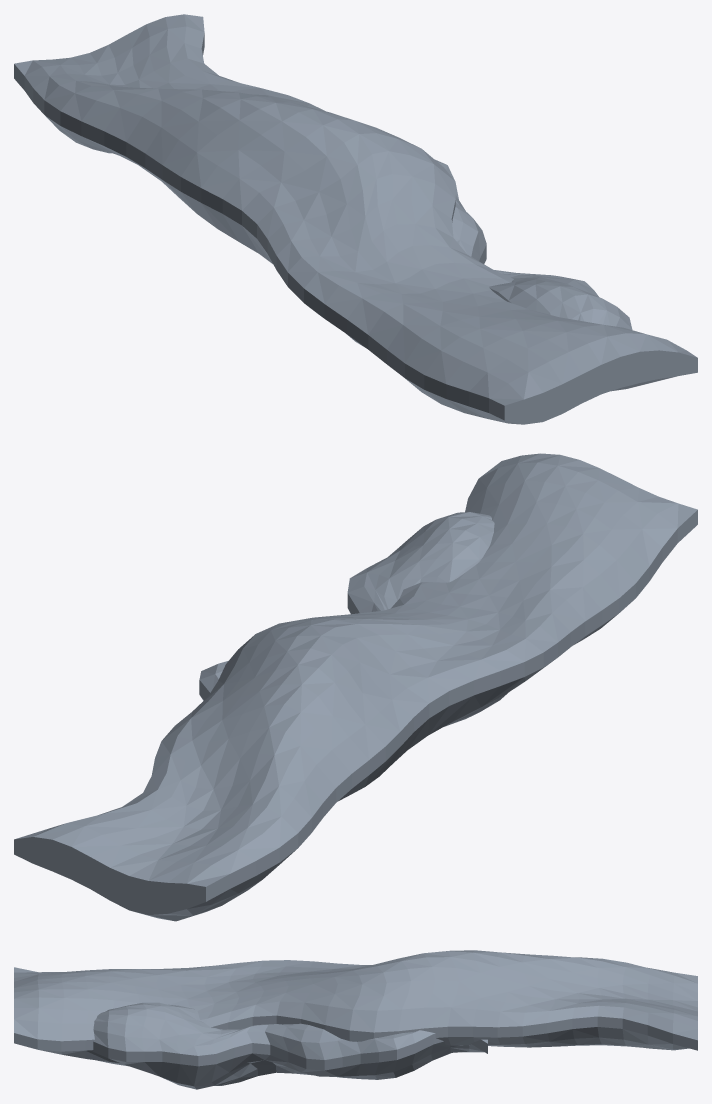
Rendered from storm_rain_scud.glb.
The picture shows the model from 3 angles, top to bottom: view 1: azimuth 30°, elevation 25°; view 2: azimuth 150°, elevation 25°; view 3: azimuth 270°, elevation 25°; orthographic projection. The views are drawn at different scales.
Parts seen in each view (by area): view 1: Hanging fragmented rain underside, Outer rain fold; view 2: Hanging fragmented rain underside, Outer rain fold; view 3: Hanging fragmented rain underside, Outer rain fold.
Boxes of the visible parts, <box> form: Hanging fragmented rain underside: <box>14,14,697,424</box>; Outer rain fold: <box>435,159,632,329</box>; Hanging fragmented rain underside: <box>14,453,697,921</box>; Outer rain fold: <box>199,512,494,700</box>; Hanging fragmented rain underside: <box>14,950,697,1066</box>; Outer rain fold: <box>92,1002,487,1089</box>.
Bounding box in the file's own units: 615 × 381 × 2150.
